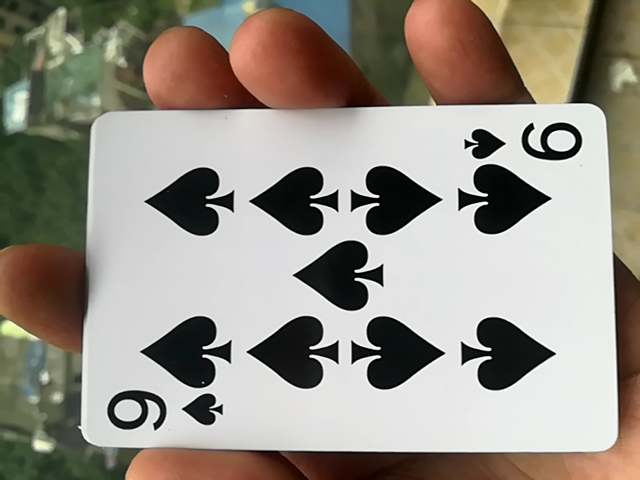ht 9: (56, 105, 621, 464)
